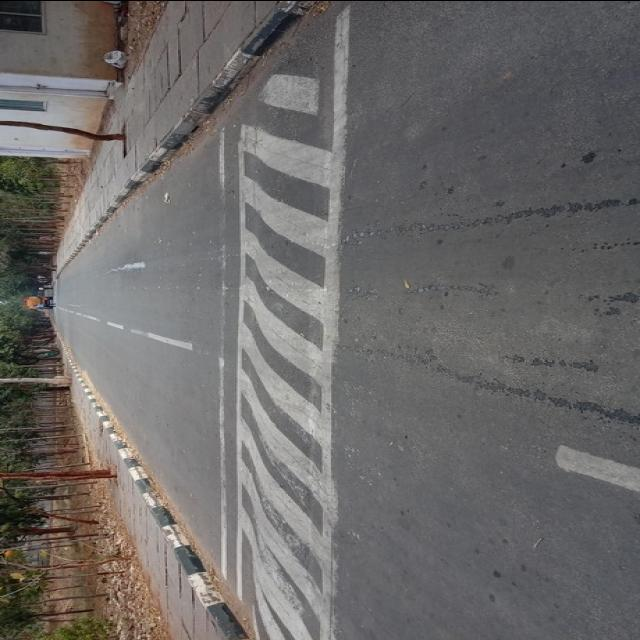speedbreaker: (212, 57, 358, 601)
